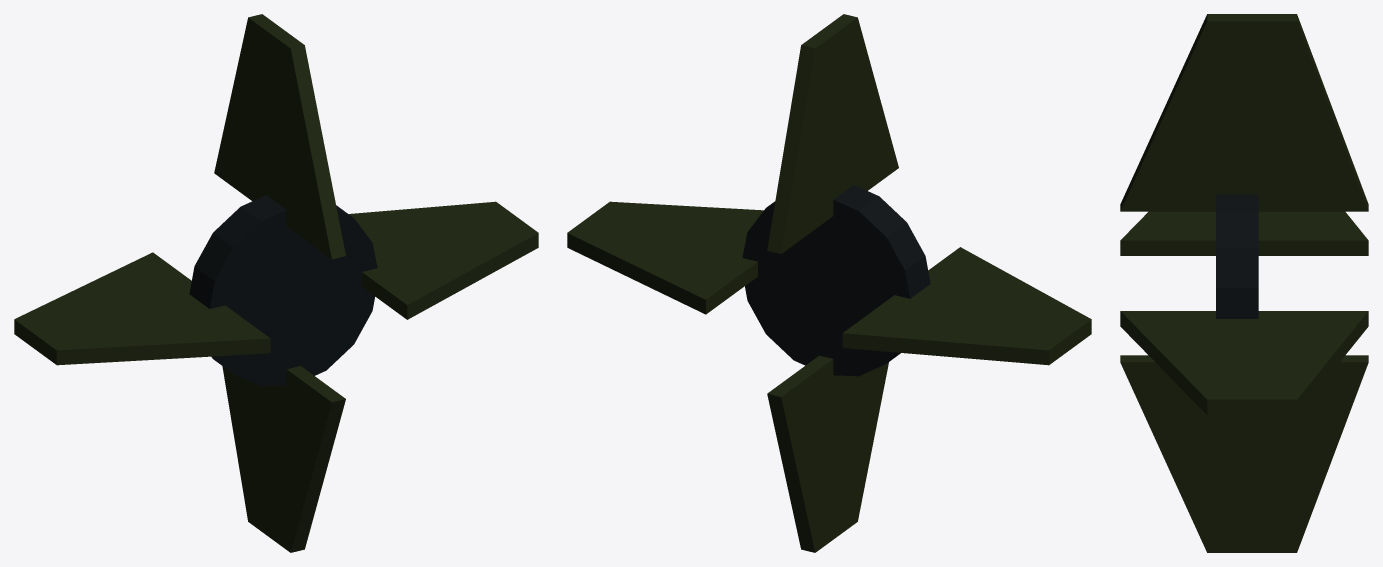
Rendered from BombHeavy__Tail.obj.
The picture shows the model from 3 angles, left to right: view 1: azimuth 30°, elevation 25°; view 2: azimuth 150°, elevation 25°; view 3: azimuth 270°, elevation 25°; orthographic projection. The views are drawn at different scales.
Parts seen in each view (by area): view 1: Tail_collar, Tail_stabilizer.001, Tail_stabilizer.002, Tail_stabilizer.003, Tail_stabilizer; view 2: Tail_collar, Tail_stabilizer.001, Tail_stabilizer.002, Tail_stabilizer.003, Tail_stabilizer; view 3: Tail_stabilizer.001, Tail_stabilizer.003, Tail_stabilizer, Tail_stabilizer.002, Tail_collar.
Boxes of the visible parts, x1,y1,x2,y2 form: Tail_collar: [189, 195, 377, 386]; Tail_stabilizer.001: [214, 14, 345, 259]; Tail_stabilizer.002: [14, 252, 270, 365]; Tail_stabilizer.003: [222, 366, 345, 552]; Tail_stabilizer: [349, 201, 538, 319]; Tail_collar: [742, 185, 930, 376]; Tail_stabilizer.001: [767, 14, 898, 253]; Tail_stabilizer.002: [842, 247, 1091, 365]; Tail_stabilizer.003: [767, 355, 888, 552]; Tail_stabilizer: [567, 201, 763, 314]; Tail_stabilizer.001: [1120, 14, 1368, 211]; Tail_stabilizer.003: [1120, 355, 1368, 552]; Tail_stabilizer: [1120, 311, 1368, 415]; Tail_stabilizer.002: [1120, 211, 1368, 255]; Tail_collar: [1216, 194, 1258, 318].
Bounding box in the file's own units: 1.23 × 1.23 × 0.52.
